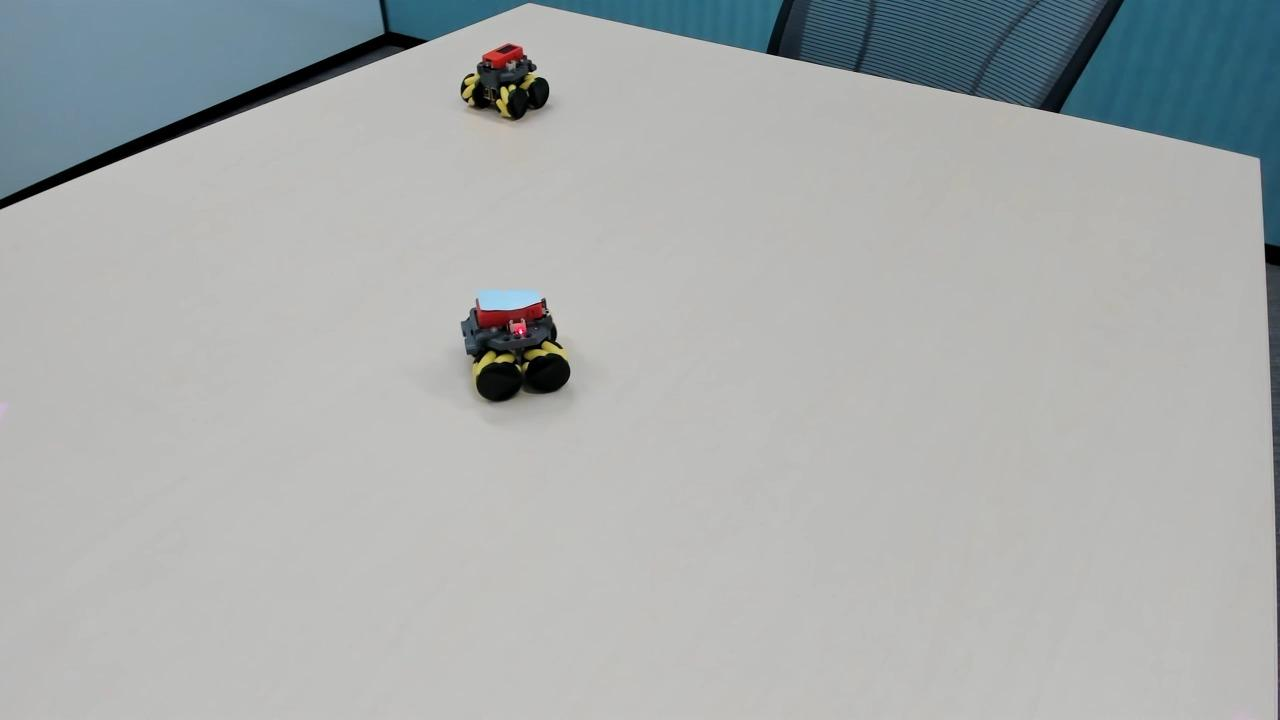B-Robot: (439, 276, 598, 420)
R-Robot: (453, 36, 561, 130)
